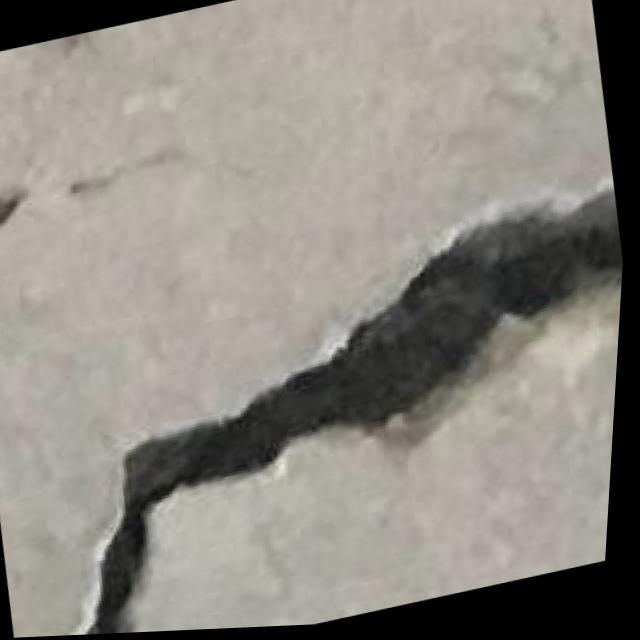Crack: (0, 201, 630, 632)
